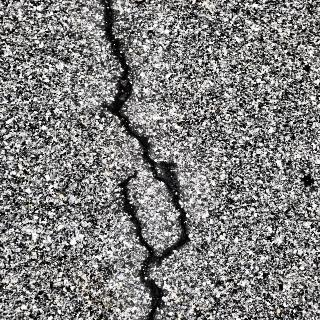alligator-crack: (92, 0, 201, 319)
